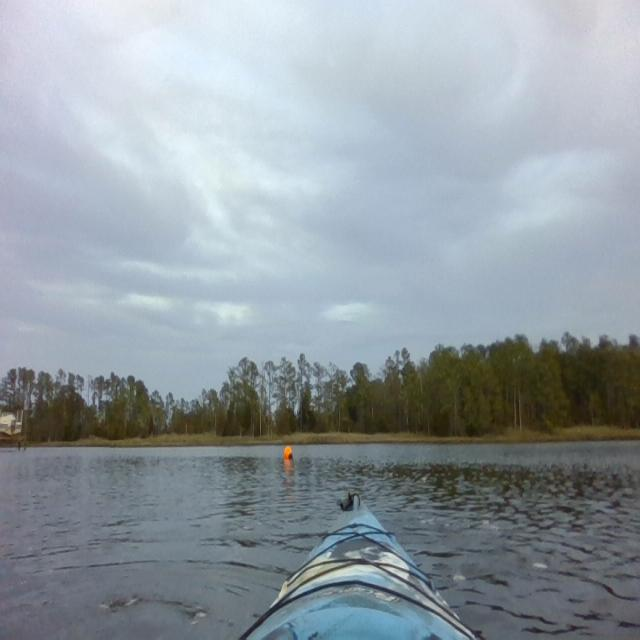Buoy: (282, 444, 294, 463)
